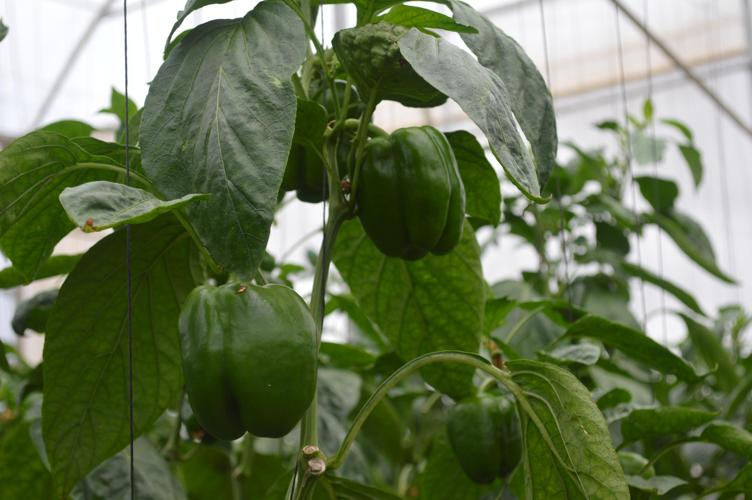BellPepper: (168, 277, 323, 454), (347, 121, 479, 264), (435, 382, 533, 479)
